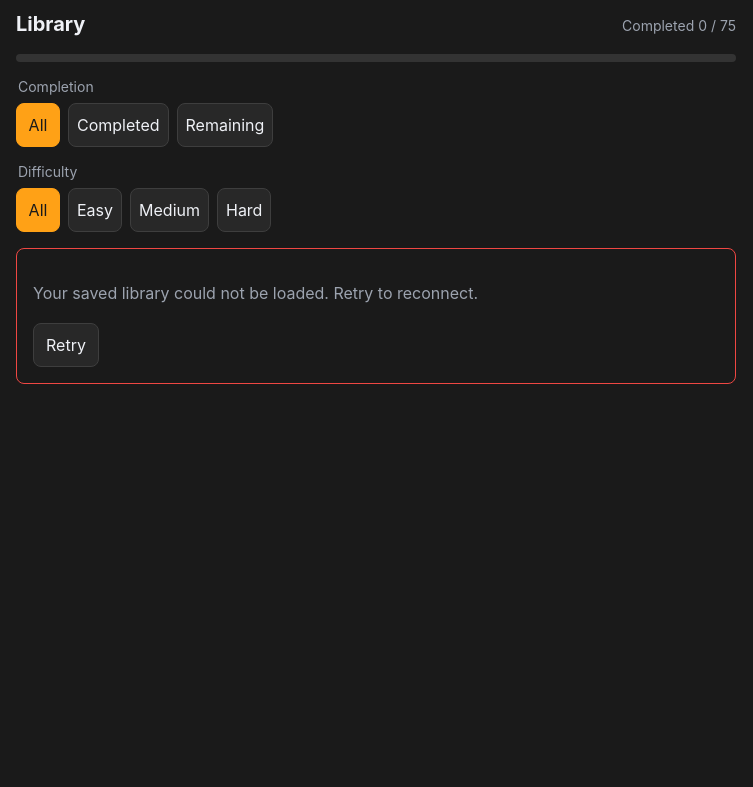
Library component › shows load failures without presenting an editable empty replacement deck
The width and height of the screenshot is (753, 787).
expect the message "Your saved library could not be loaded. Retry to reconnect. Retry" is shown: met, box [16,248,736,384]
Click the button "Retry": (66,345) [33,323,99,367]
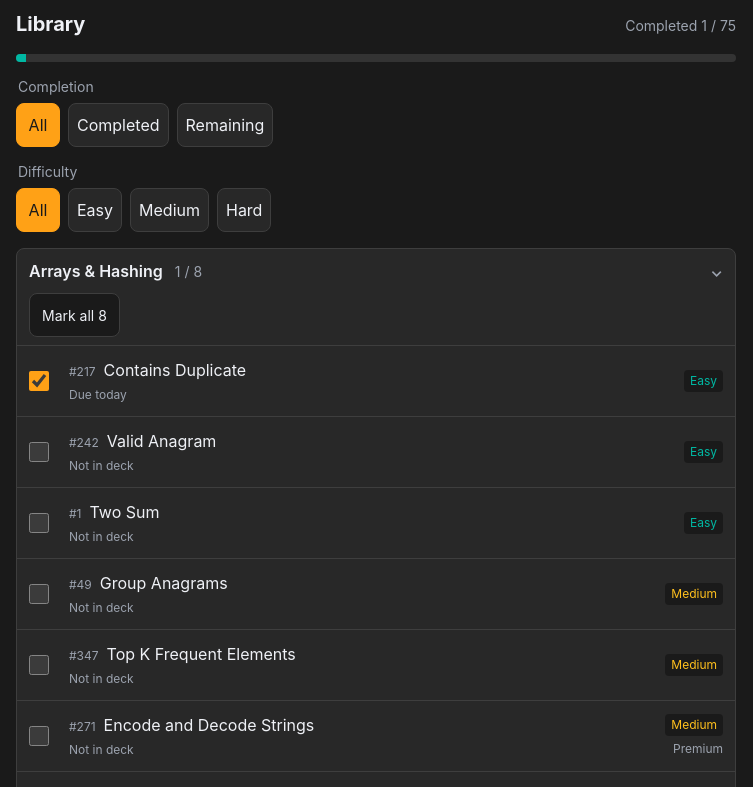
expect the checkbox named "Completed: Contains Duplicate" is checked: met, box [29,371,49,391]
expect the text "Completed 1 / 75" is shown: met, box [625,17,736,34]
